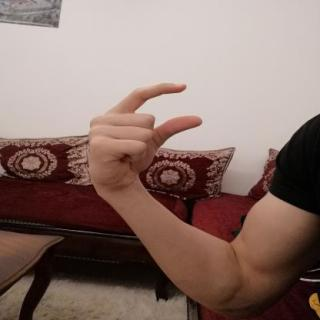DELL: (80, 76, 210, 200)
